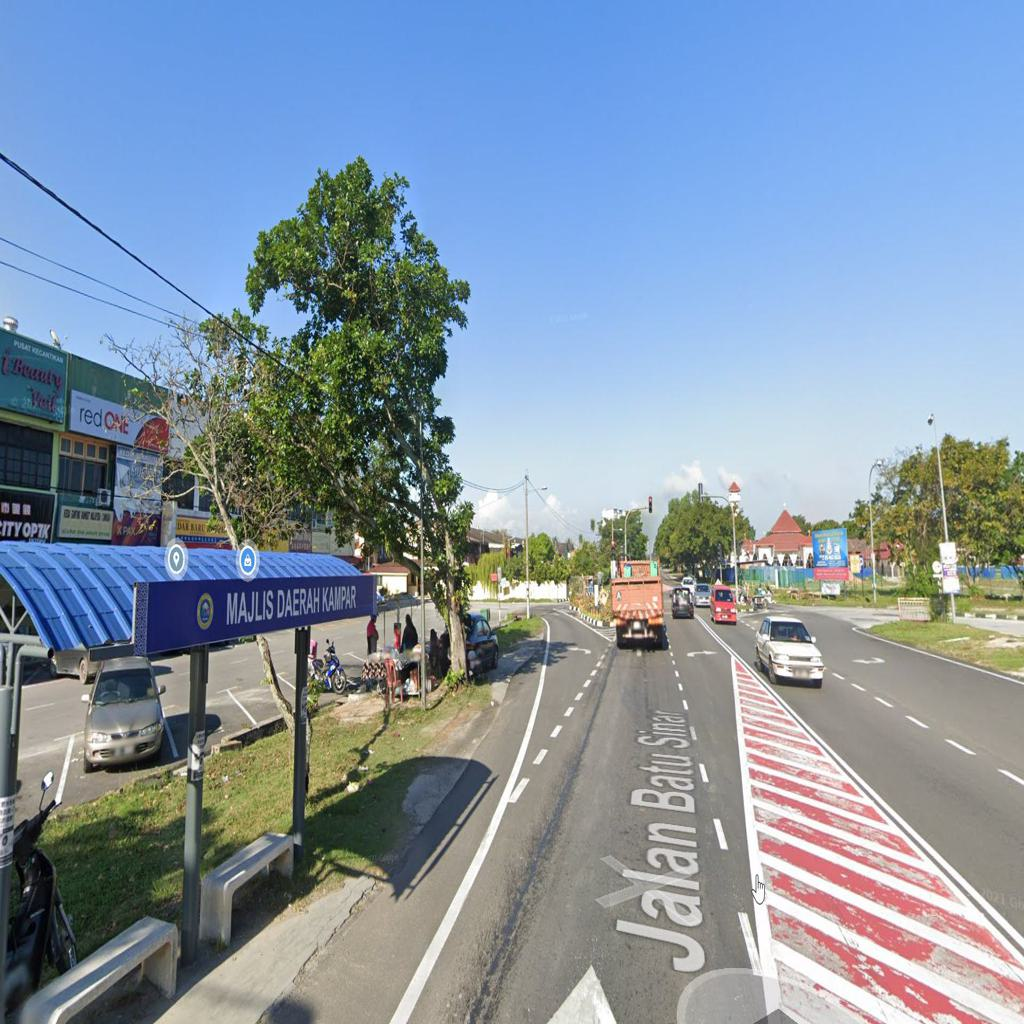Junction: (471, 577, 618, 715)
